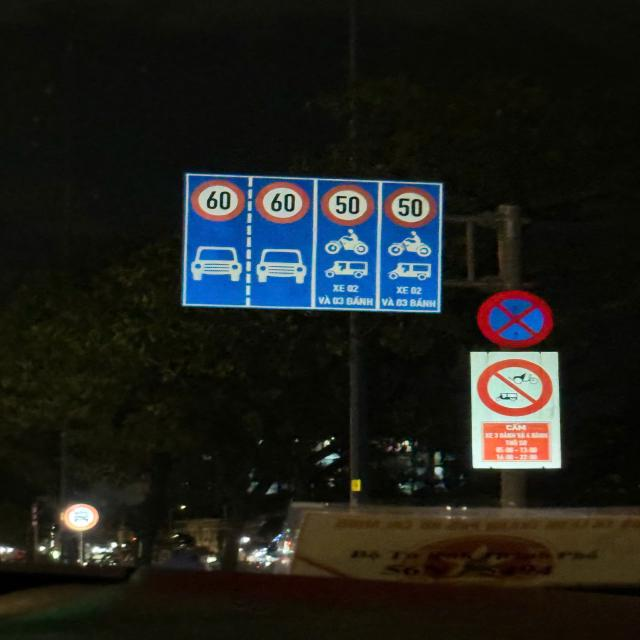Bien bao cam dung xe va do xe: (471, 282, 562, 348)
Bien bao toc do toi da cho phep: (317, 176, 376, 230), (254, 177, 312, 226), (384, 180, 438, 232), (190, 178, 244, 225)
